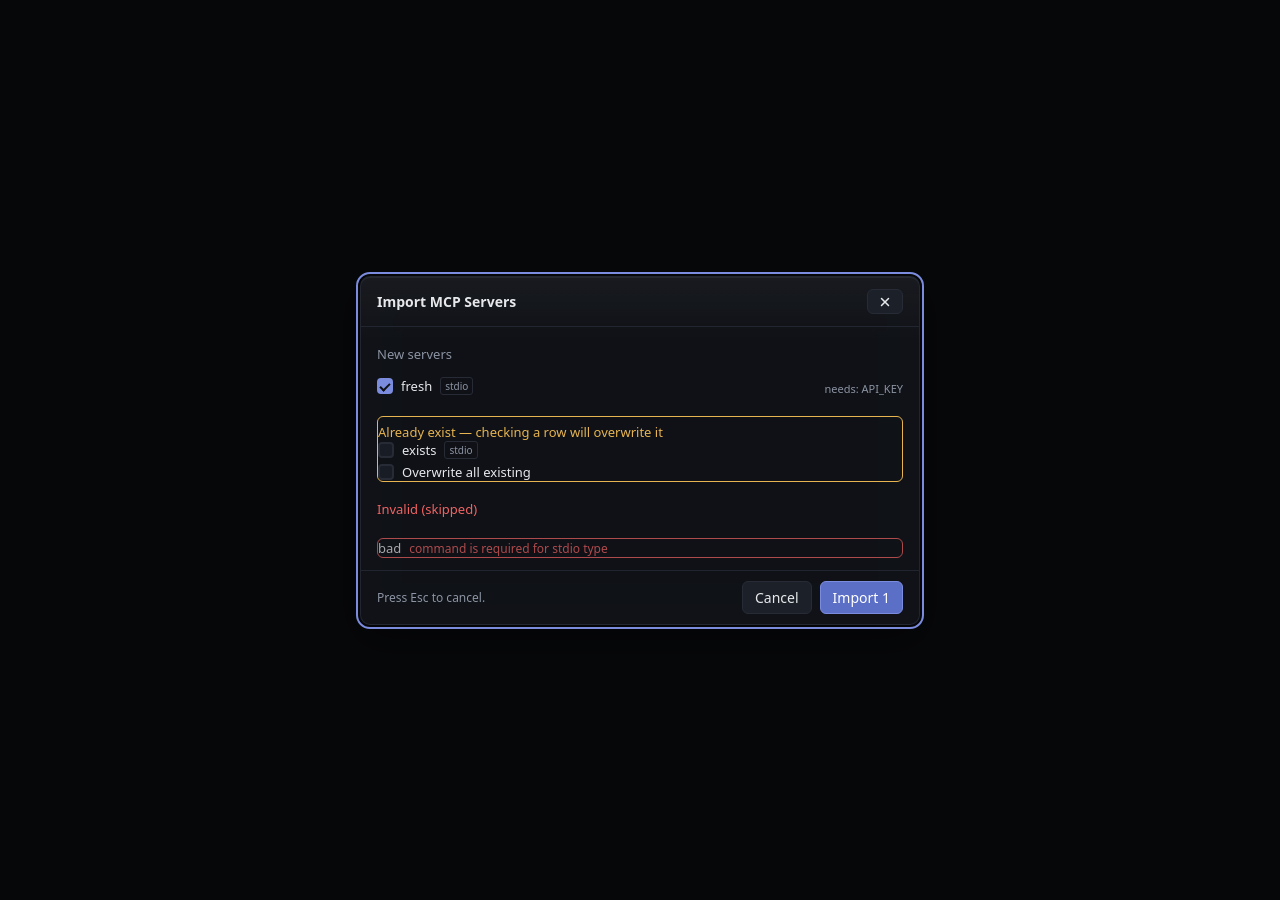
Test: McpImportDialog › previews new/conflict/invalid sections and imports the checked selection
The width and height of the screenshot is (1280, 900).
Expected: the checkbox labelled "fresh stdio needs: API_KEY" is checked, x1=377 y1=377 x2=393 y2=393
Expected: the checkbox labelled "Overwrite all existing" is not checked, x1=378 y1=464 x2=394 y2=480
// check the conflict row to overwrite it, then import
Click the checkbox labelled "exists stdio" at (386, 450), box x1=378 y1=442 x2=394 y2=458
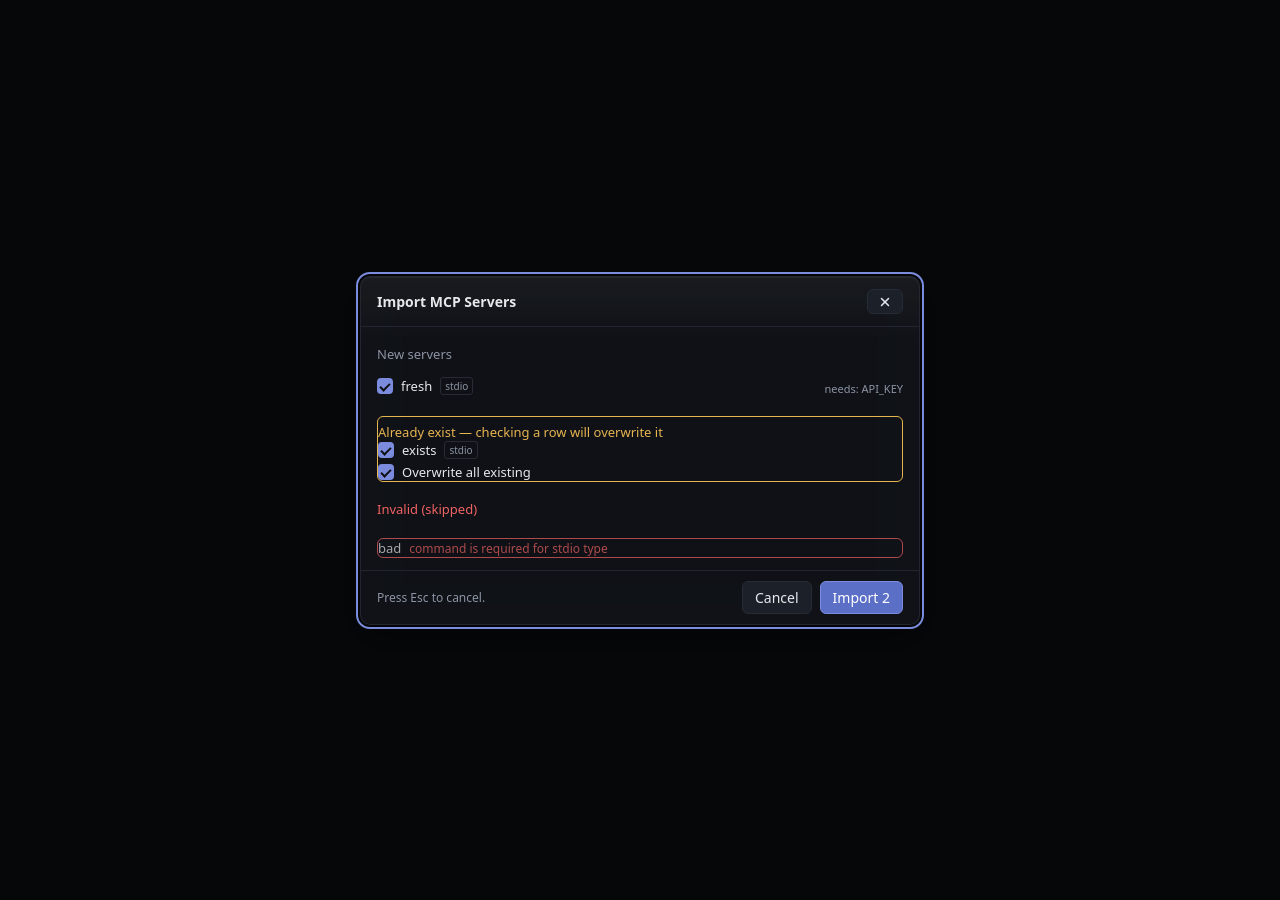
Click the button "Import 2" at (861, 597), box x1=820 y1=580 x2=903 y2=614
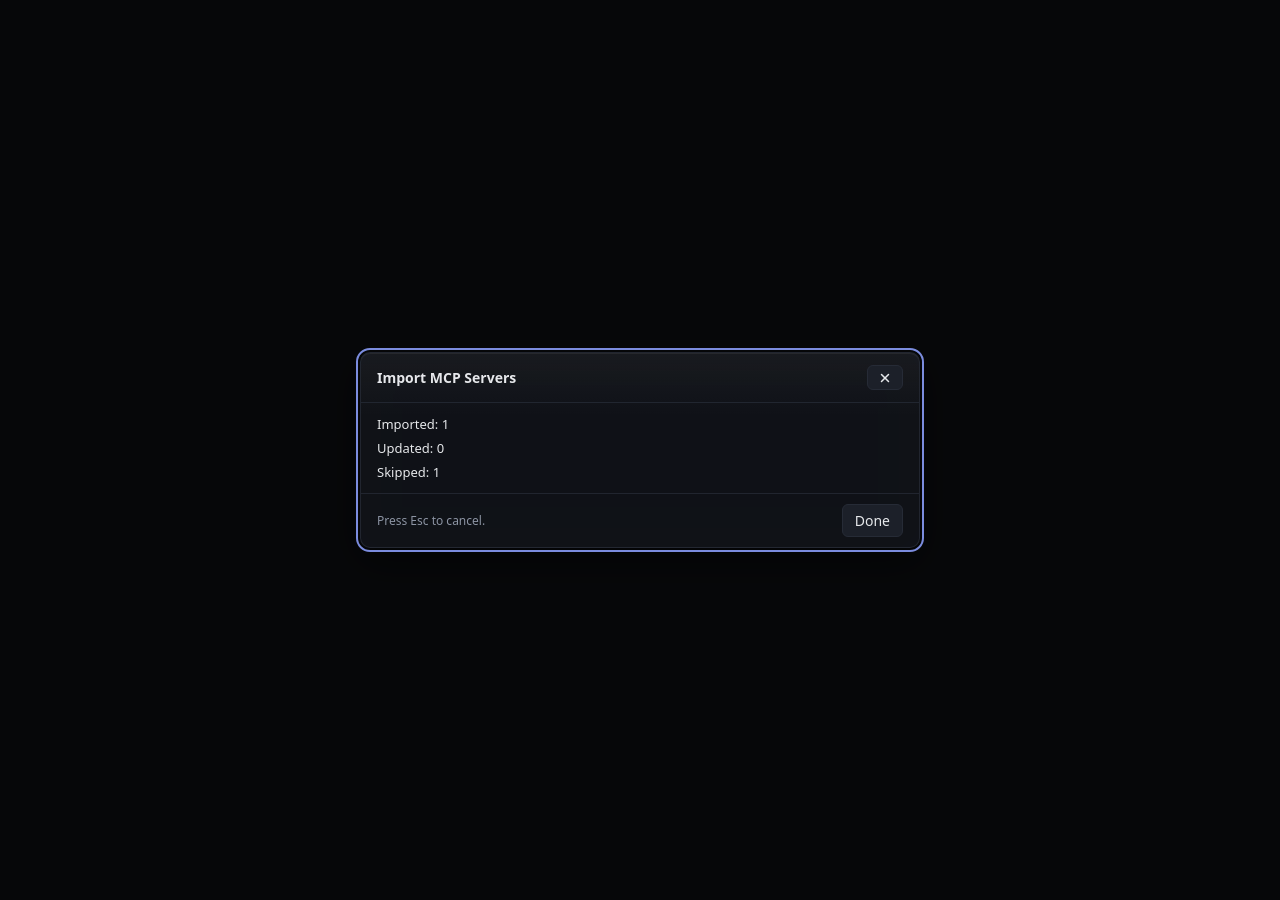
Expected: the text "Imported: 1" is shown, x1=377 y1=415 x2=449 y2=433
